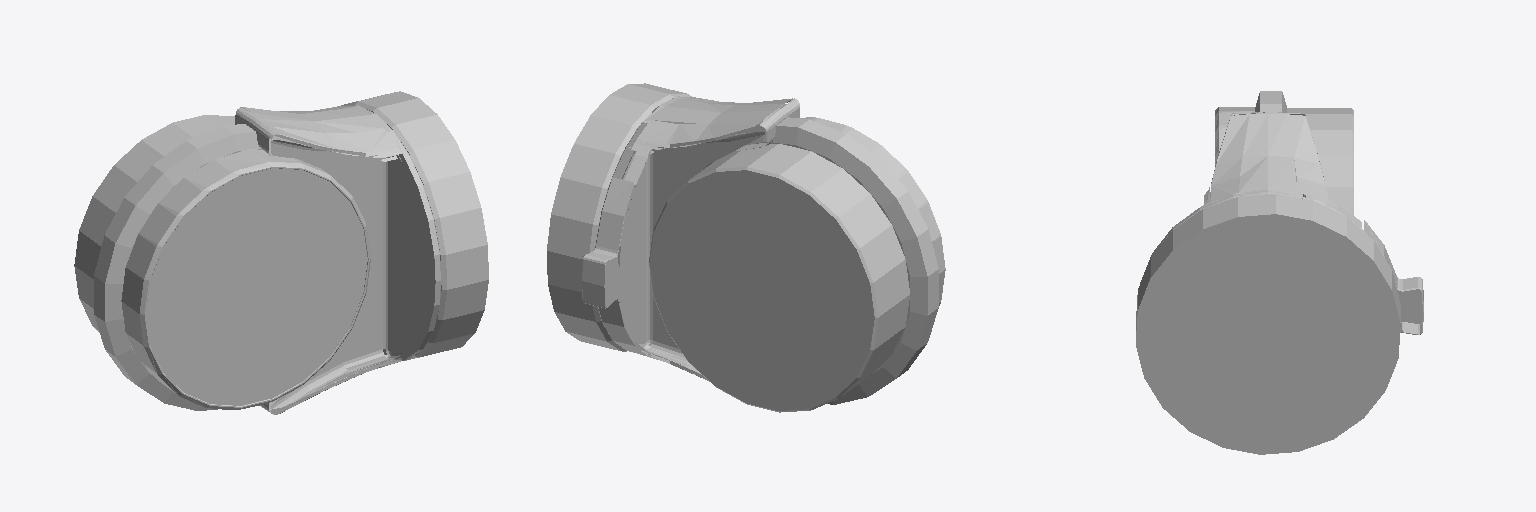
File: RR_hip.obj
The picture shows the model from 3 angles: view 1: azimuth 30°, elevation 25°; view 2: azimuth 150°, elevation 25°; view 3: azimuth 270°, elevation 25°; orthographic projection.
Visible parts, largest first — view 1: object23_021-mesh; view 2: object23_021-mesh; view 3: object23_021-mesh.
Part boxes in pixels (x1,y1,x2,y2): object23_021-mesh: (74,91,488,414); object23_021-mesh: (547,83,945,412); object23_021-mesh: (1136,91,1423,454).
Size of the model in its own units: 0.1499 by 0.1262 by 0.1165.